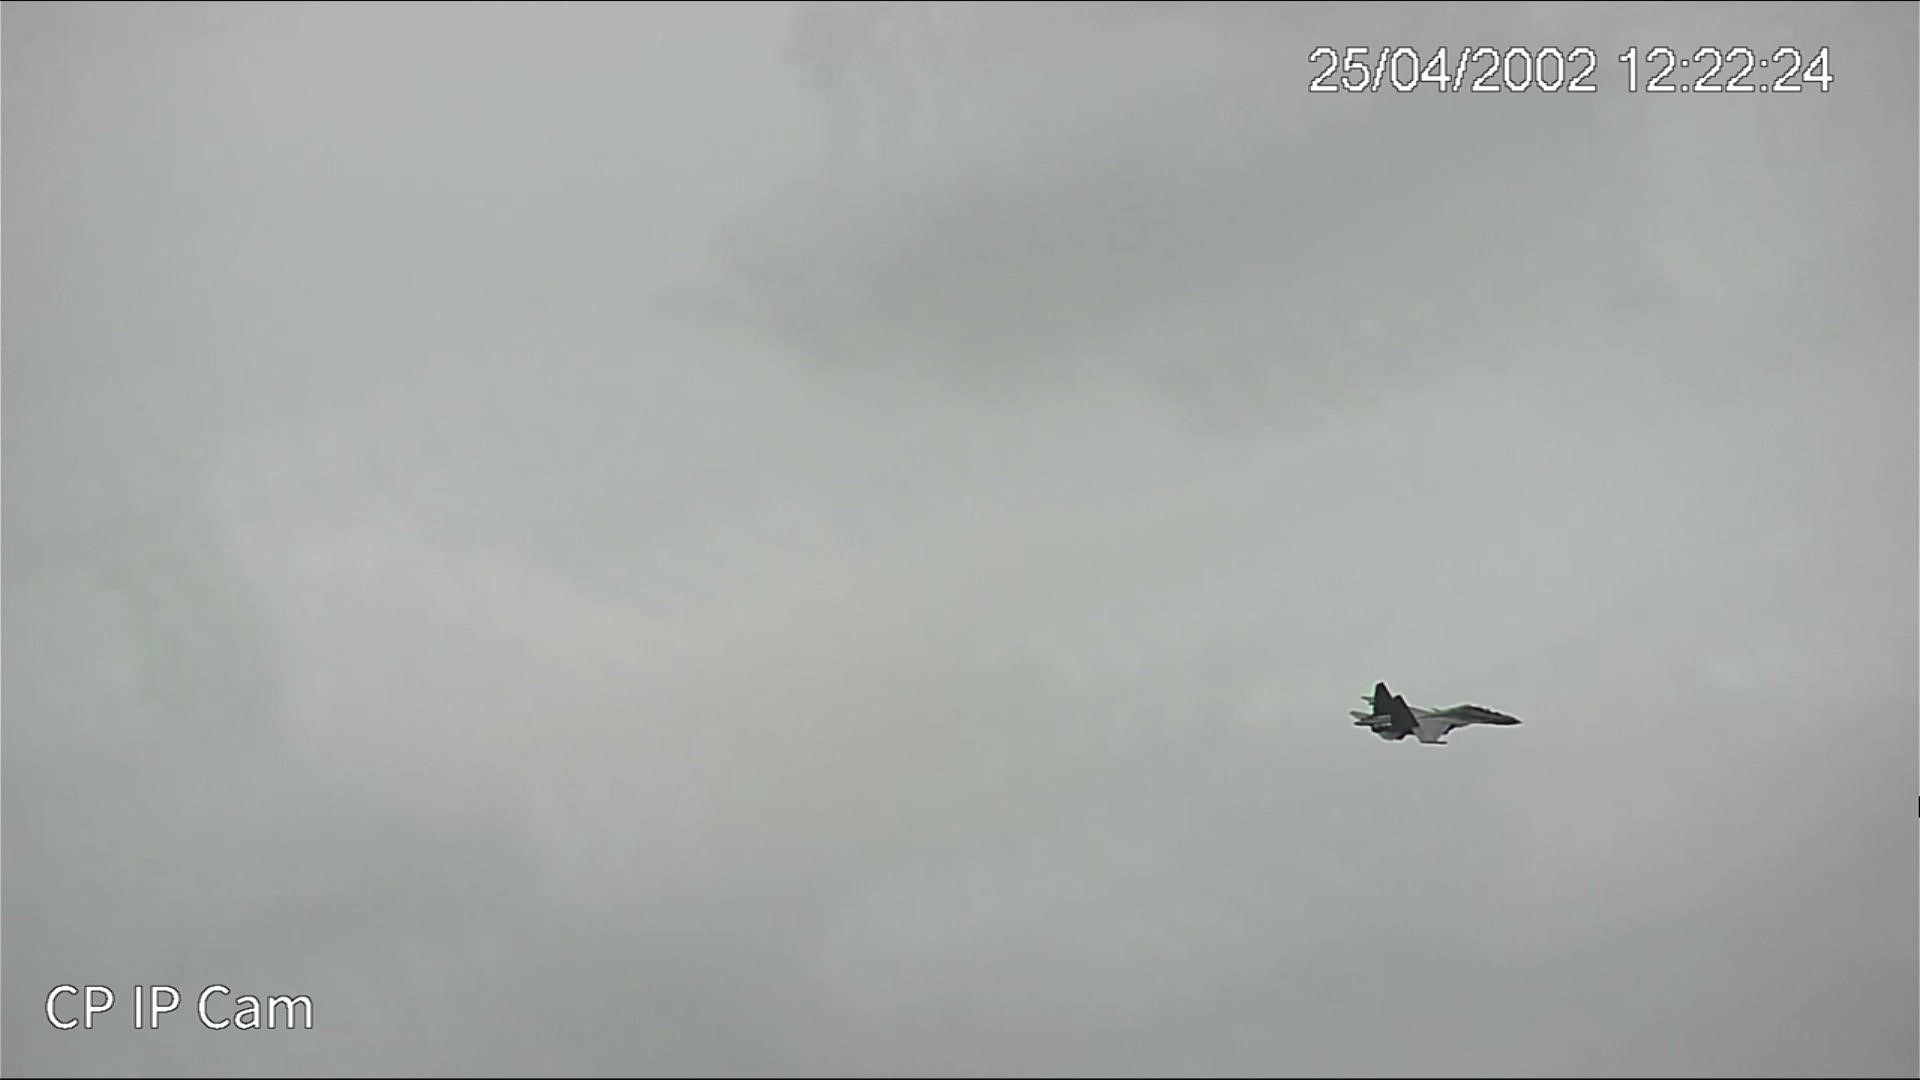SU_30: (1346, 676, 1530, 750)
